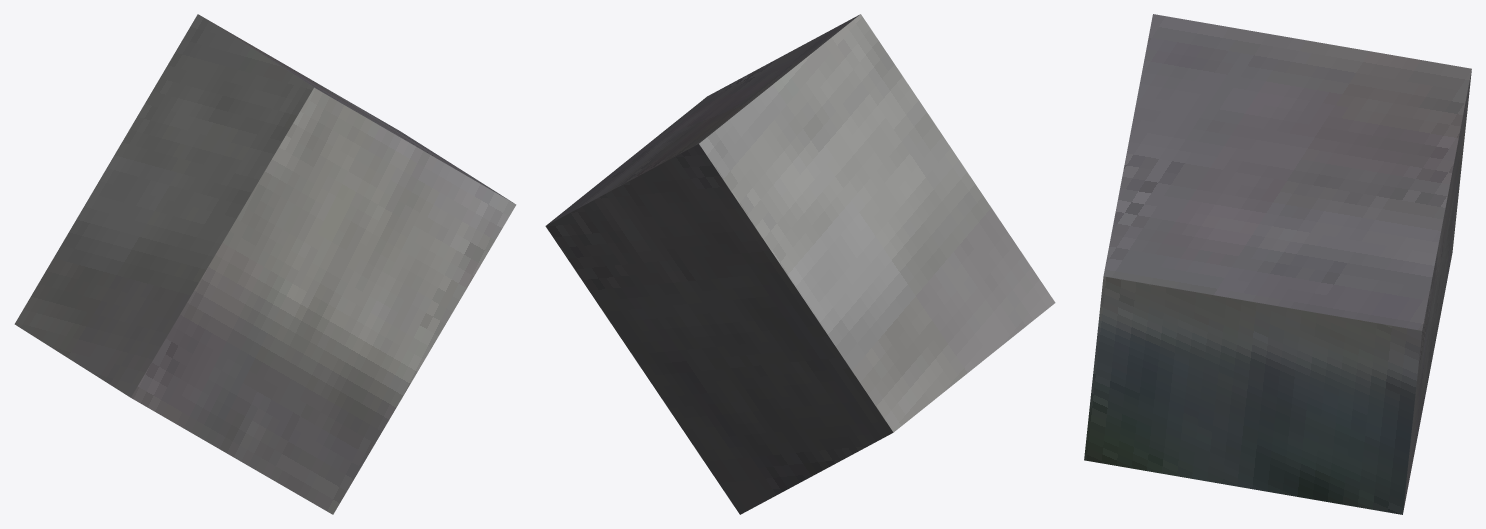
3 views of the same model, side by side, from view 1: azimuth 30°, elevation 25°; view 2: azimuth 150°, elevation 25°; view 3: azimuth 270°, elevation 25° (orthographic). The views are drawn at different scales.
Parts seen in each view (by area): view 1: BAG_0599100010011230; view 2: BAG_0599100010011230; view 3: BAG_0599100010011230.
Part boxes in pixels (x1,y1,x2,y2): BAG_0599100010011230: (14, 14, 516, 514); BAG_0599100010011230: (545, 14, 1055, 514); BAG_0599100010011230: (1084, 14, 1471, 514).
Size of the model in its own units: 4.01 by 4.23 by 3.01.
Materials: 2 (1 with a texture image).
